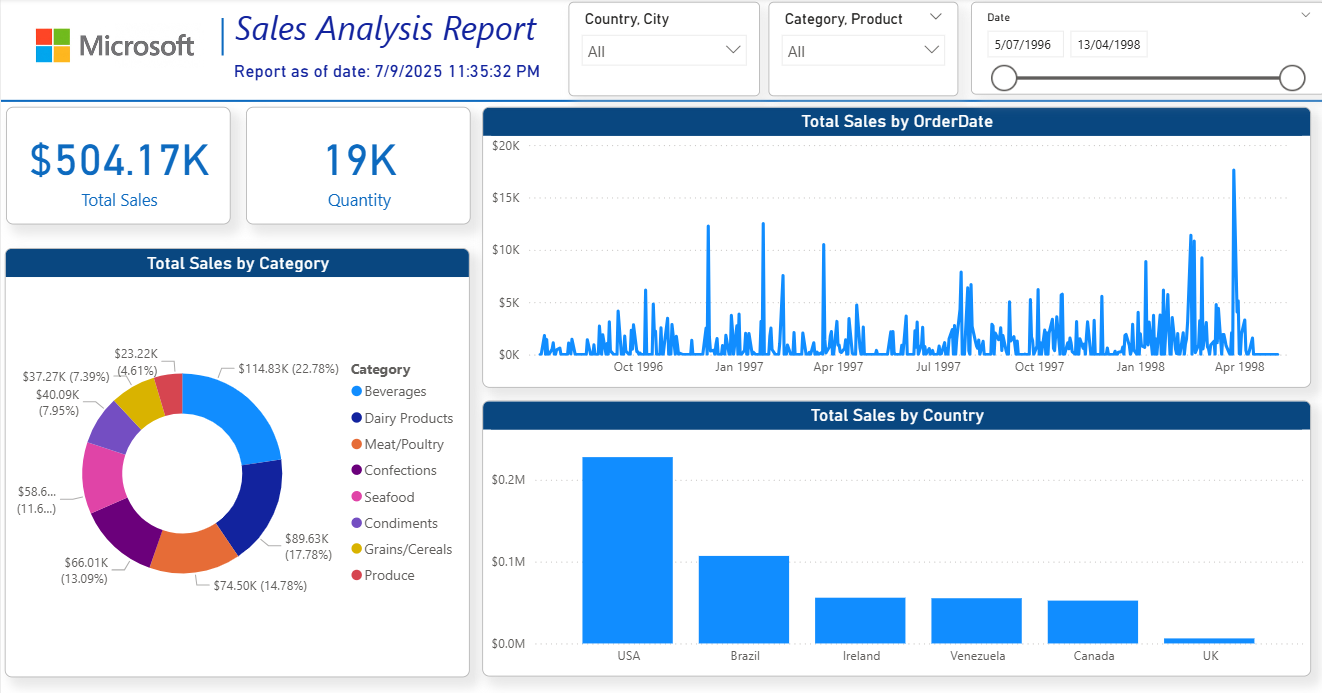

The page's visual inventory and layout, read from the dashboard file:
{"tool":"powerbi","page":{"name":"Summary","canvas":[1280,720],"ordinal":0},"visuals":[{"type":"shape","box":[0,92.6,1280,12.8],"z":0},{"type":"shape","box":[0,670.5,1280.4,12.8],"z":1000},{"type":"image","box":[3.2,0,217.1,92.6],"z":2000},{"type":"shape","box":[207.5,19.2,12.8,54.3],"z":3000},{"type":"textbox","box":[220.3,1.6,322.5,54.3],"z":4000},{"type":"card","fields":{"Values":["Categories.LastRefresh"]},"box":[207.5,55.9,330.5,30.3],"z":5000},{"type":"textbox","box":[3.2,681.7,544.4,36.7],"z":6000},{"type":"card","fields":{"Values":["Order_Details.Total Sales"]},"box":[4.8,105.4,217.1,113.3],"z":7000},{"type":"card","fields":{"Values":["Sum(Order_Details.Quantity)"]},"box":[236.3,105.4,217.1,113.3],"z":8000},{"type":"donutChart","fields":{"Category":["Categories.CategoryName"],"Y":["Order_Details.Total Sales"]},"box":[3.9,241,449.2,414.5],"z":9000},{"type":"slicer","fields":{"Values":["Customers.Country","Customers.City"]},"box":[547.5,3.1,185.1,91],"z":10000},{"type":"slicer","fields":{"Values":["Categories.CategoryName","Products.ProductName"]},"box":[740.4,3.1,183.5,91],"z":11000},{"type":"lineChart","fields":{"Y":["Order_Details.Total Sales"],"Category":["Orders.OrderDate"]},"box":[464.3,105.1,800,271.4],"z":12000},{"type":"slicer","fields":{"Values":["Date_Master.Date"]},"box":[936.5,3.1,343.5,89.4],"z":13000},{"type":"columnChart","fields":{"Category":["Customers.Country"],"Y":["Order_Details.Total Sales"]},"box":[464.3,389,800,266.7],"z":14000}]}

Visuals, with their boxes on the page's 1280x720 design canvas (x1, y1, x2, y2). These are canvas units, not pixel positions in the 1322x693 screenshot, which may show the page scaled, cropped or inside an application window:
shape: {"x1": 0, "y1": 93, "x2": 1280, "y2": 105}
shape: {"x1": 0, "y1": 670, "x2": 1280, "y2": 683}
image: {"x1": 3, "y1": 0, "x2": 220, "y2": 93}
shape: {"x1": 208, "y1": 19, "x2": 220, "y2": 74}
textbox: {"x1": 220, "y1": 2, "x2": 543, "y2": 56}
card - Categories.LastRefresh: {"x1": 208, "y1": 56, "x2": 538, "y2": 86}
textbox: {"x1": 3, "y1": 682, "x2": 548, "y2": 718}
card - Order_Details.Total Sales: {"x1": 5, "y1": 105, "x2": 222, "y2": 219}
card - Sum(Order_Details.Quantity): {"x1": 236, "y1": 105, "x2": 453, "y2": 219}
donutChart - Categories.CategoryName x Order_Details.Total Sales: {"x1": 4, "y1": 241, "x2": 453, "y2": 656}
slicer - Customers.Country x Customers.City: {"x1": 548, "y1": 3, "x2": 733, "y2": 94}
slicer - Categories.CategoryName x Products.ProductName: {"x1": 740, "y1": 3, "x2": 924, "y2": 94}
lineChart - Order_Details.Total Sales x Orders.OrderDate: {"x1": 464, "y1": 105, "x2": 1264, "y2": 376}
slicer - Date_Master.Date: {"x1": 936, "y1": 3, "x2": 1280, "y2": 92}
columnChart - Customers.Country x Order_Details.Total Sales: {"x1": 464, "y1": 389, "x2": 1264, "y2": 656}
